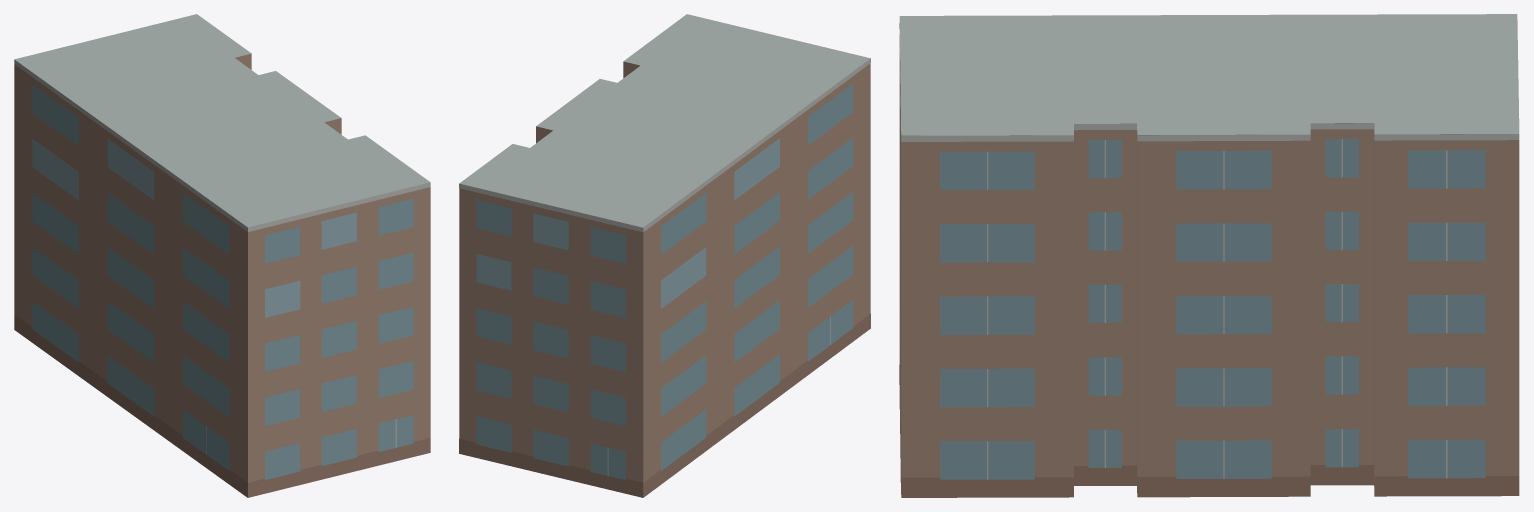
Rendered from survey-upis-32610855.glb.
3 views of the same model, side by side, from view 1: azimuth 30°, elevation 25°; view 2: azimuth 150°, elevation 25°; view 3: azimuth 270°, elevation 25° (orthographic). The views are drawn at different scales.
Visible parts, largest first — view 1: survey-upis-32610855.tmp; view 2: survey-upis-32610855.tmp; view 3: survey-upis-32610855.tmp.
Boxes of the visible parts, left/top/right/bottom form: survey-upis-32610855.tmp: left=14, top=14, right=430, bottom=497; survey-upis-32610855.tmp: left=459, top=14, right=870, bottom=497; survey-upis-32610855.tmp: left=899, top=14, right=1519, bottom=497.
Bounding box in the file's own units: 10.25 × 14.2 × 22.04.
